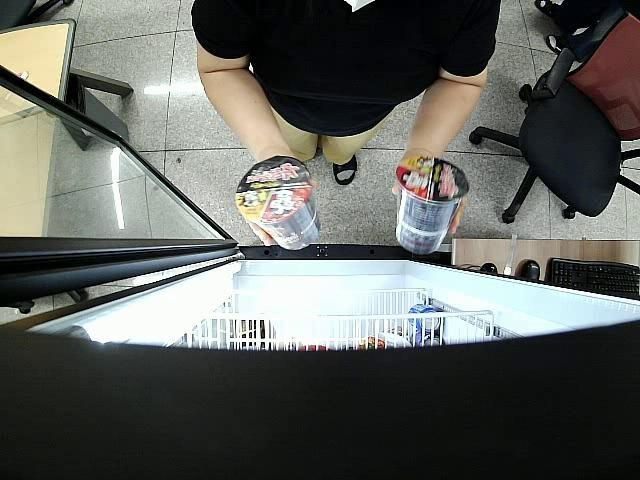08_buldak_S: (234, 158, 320, 249), (394, 154, 470, 254)
